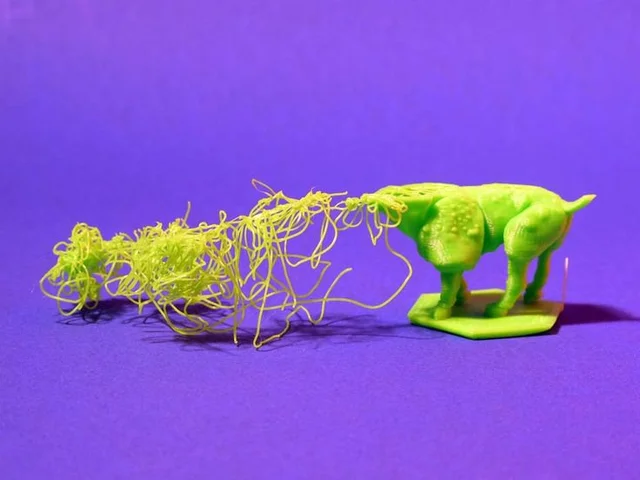Spaghetti: (42, 158, 422, 345)
